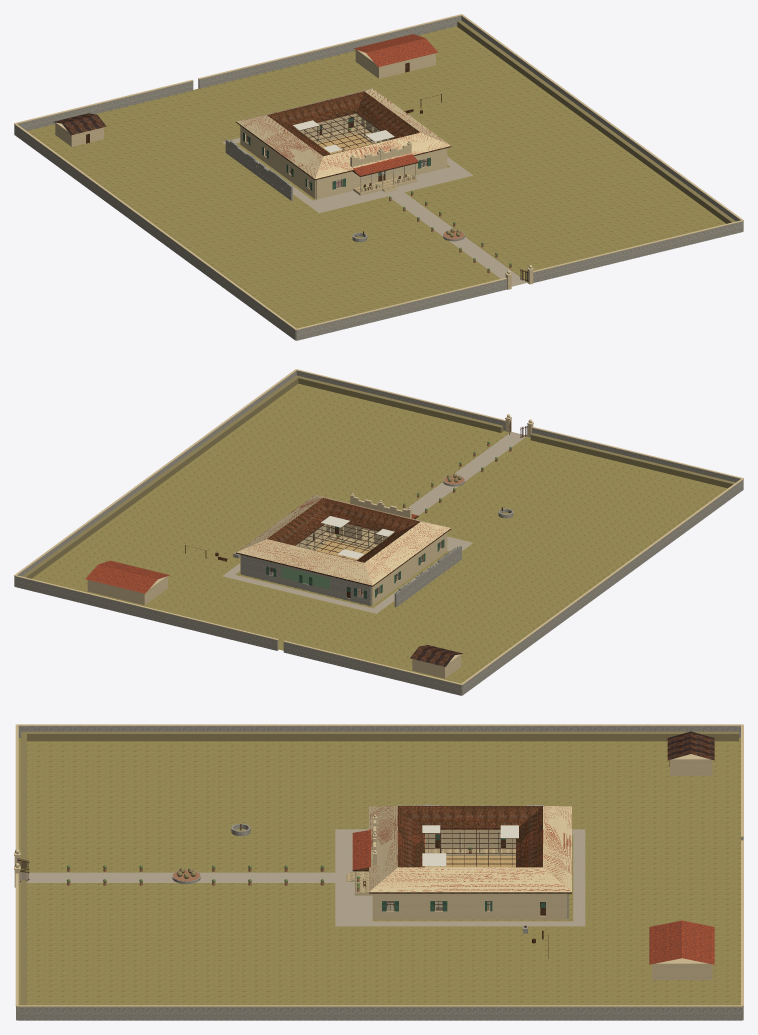
Rendered from lodge.0d84724f64.glb.
The picture shows the model from 3 angles, top to bottom: view 1: azimuth 30°, elevation 25°; view 2: azimuth 150°, elevation 25°; view 3: azimuth 270°, elevation 25°; orthographic projection. The views are drawn at different scales.
Parts seen in each view (by area): view 1: grounds, house; view 2: grounds, house; view 3: grounds, house.
Part boxes in pixels (x1,y1,x2,y2): grounds: (14,14,743,340); house: (236,88,451,199); grounds: (14,369,743,695); house: (236,493,451,606); grounds: (14,724,743,1020); house: (347,806,571,919).
Size of what is drawn, in the model's own units: 111 by 14.34 by 121.
42 materials, 14 textured.
